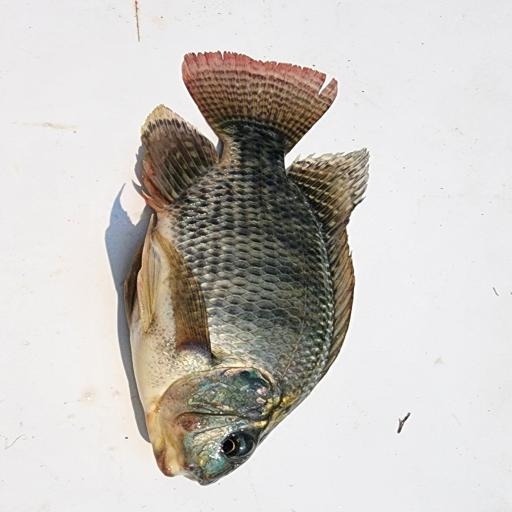Tilapia: (129, 50, 372, 486)
